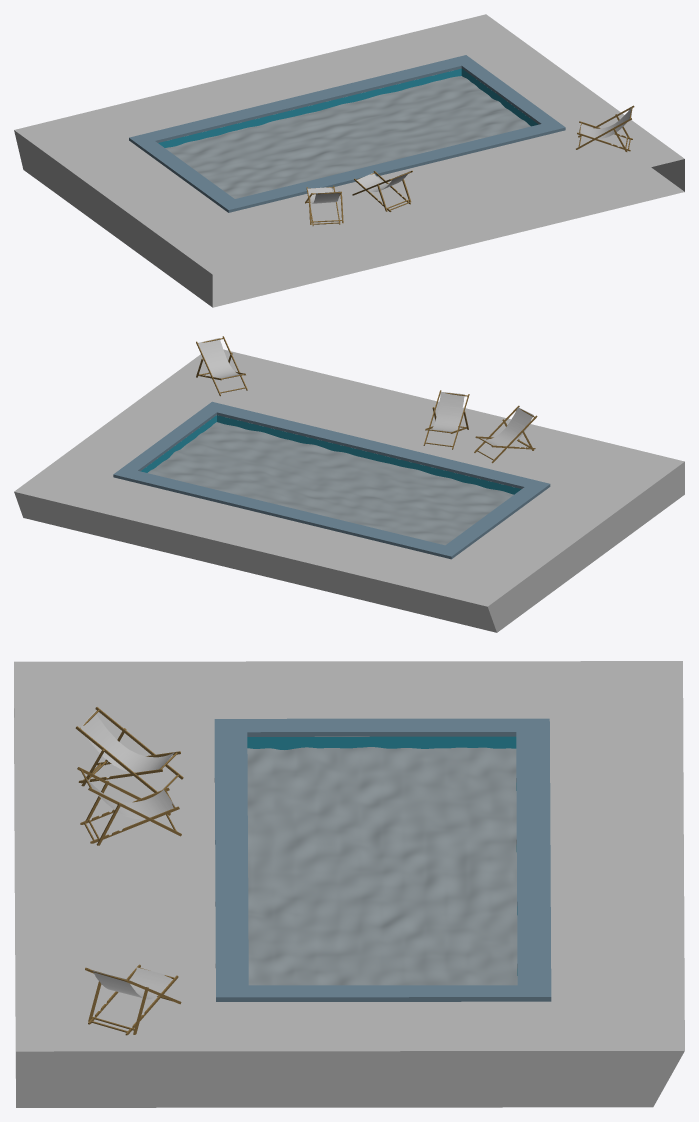
The model's file is swimming-pool.glb.
3 views of the same model, one above another, from view 1: azimuth 30°, elevation 25°; view 2: azimuth 150°, elevation 25°; view 3: azimuth 270°, elevation 25° (orthographic). The views are drawn at different scales.
Parts seen in each view (by area): view 1: Box126.002, Object256.001, Object114.001, Object113.001, gsecond.005, gsecond.004, gsecond.003; view 2: Box126.002, Object256.001, Object114.001, Object113.001, gsecond.004, gsecond.005, gsecond.003; view 3: Box126.002, Object256.001, Object114.001, Object113.001, gsecond.003, gsecond.004, gsecond.005.
Boxes of the visible parts, x1,y1,x2,y2 form: Box126.002: [14, 14, 684, 307]; Object256.001: [165, 76, 530, 198]; Object114.001: [129, 55, 565, 212]; Object113.001: [158, 68, 538, 147]; gsecond.005: [576, 105, 634, 151]; gsecond.004: [352, 170, 412, 211]; gsecond.003: [305, 185, 343, 225]; Box126.002: [14, 349, 684, 632]; Object256.001: [148, 422, 513, 545]; Object114.001: [113, 401, 550, 559]; Object113.001: [140, 415, 521, 494]; gsecond.004: [423, 390, 469, 449]; gsecond.005: [196, 336, 247, 396]; gsecond.003: [474, 405, 537, 463]; Box126.002: [14, 661, 684, 1107]; Object256.001: [247, 736, 517, 985]; Object114.001: [214, 718, 551, 1001]; Object113.001: [247, 736, 517, 975]; gsecond.003: [75, 707, 183, 792]; gsecond.004: [77, 767, 181, 845]; gsecond.005: [85, 964, 181, 1035].
Bounding box in the file's own units: 3 × 0.5453 × 2.18.
